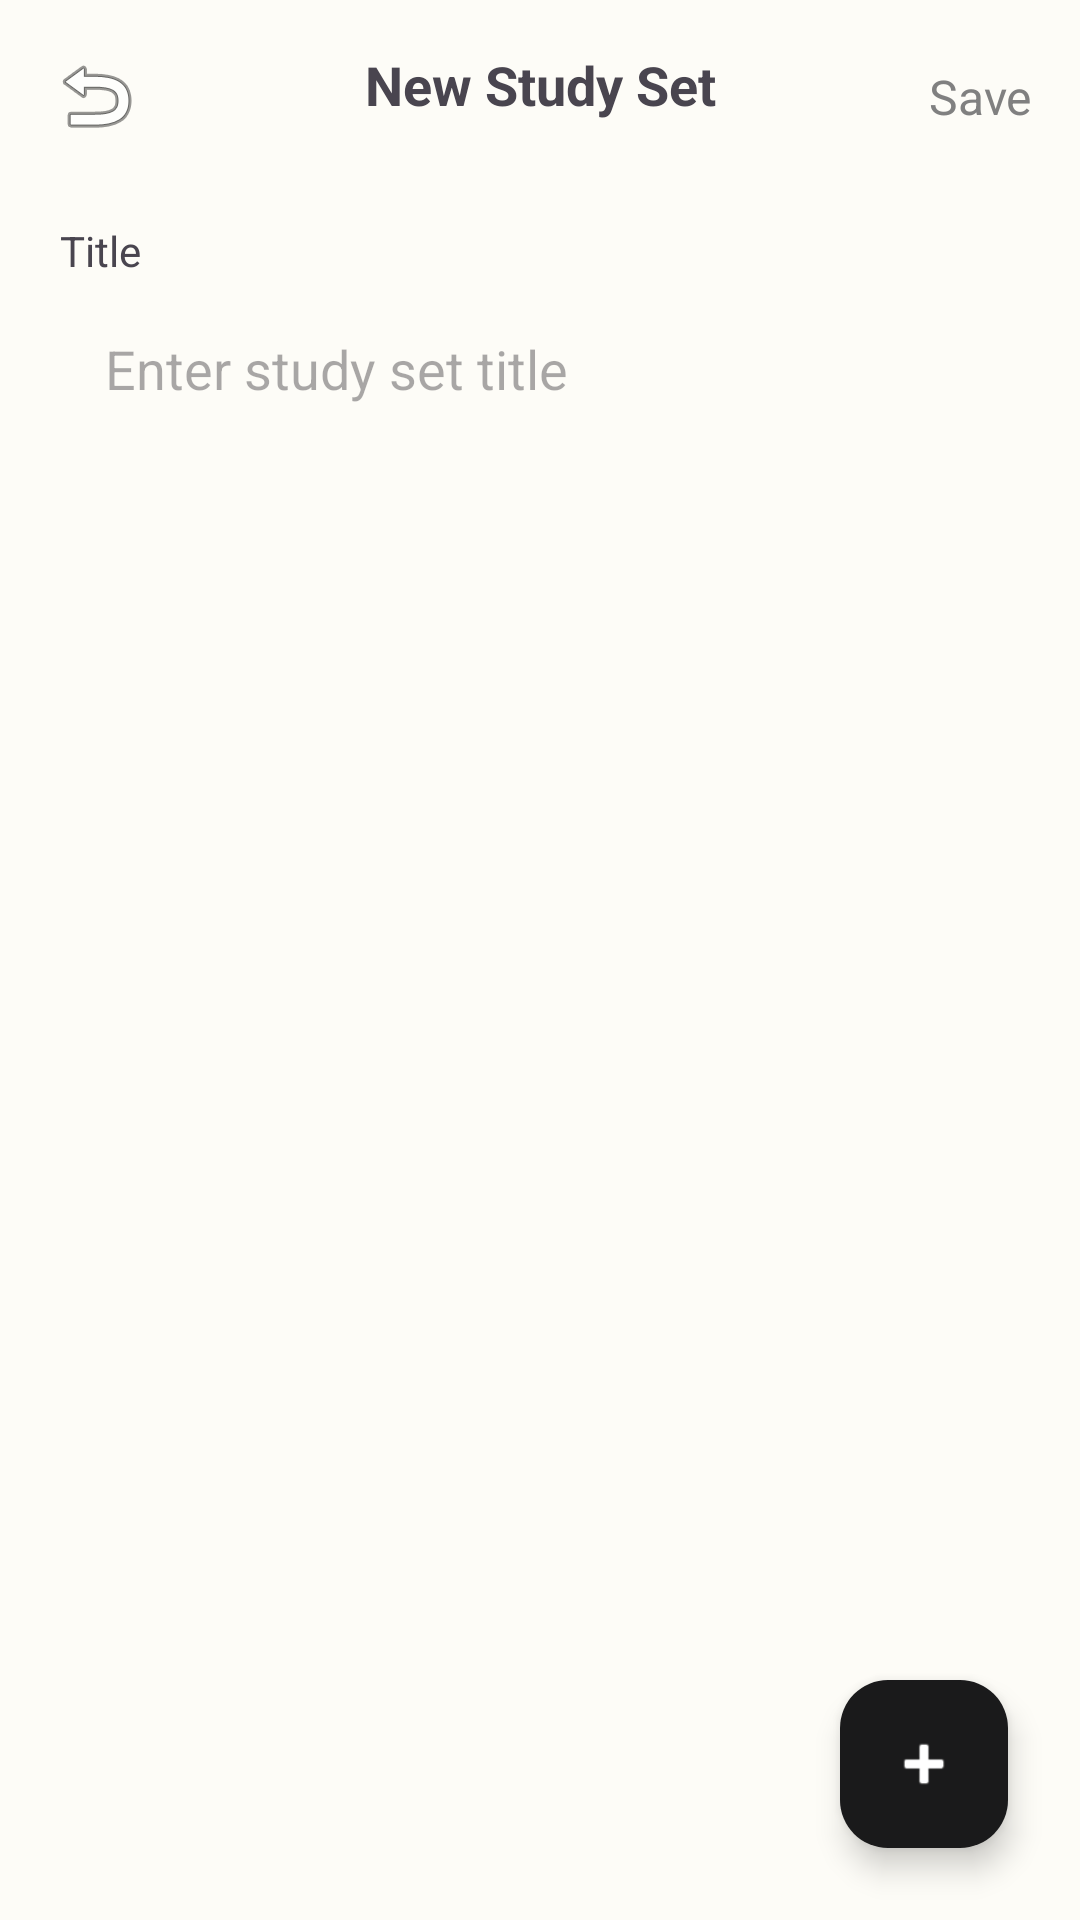

Icons on this 1080 x 1920 Android screen, each with its box as (x1, y1, x2, y2):
add: (840, 1680, 1008, 1848)
revert: (63, 65, 132, 128)
